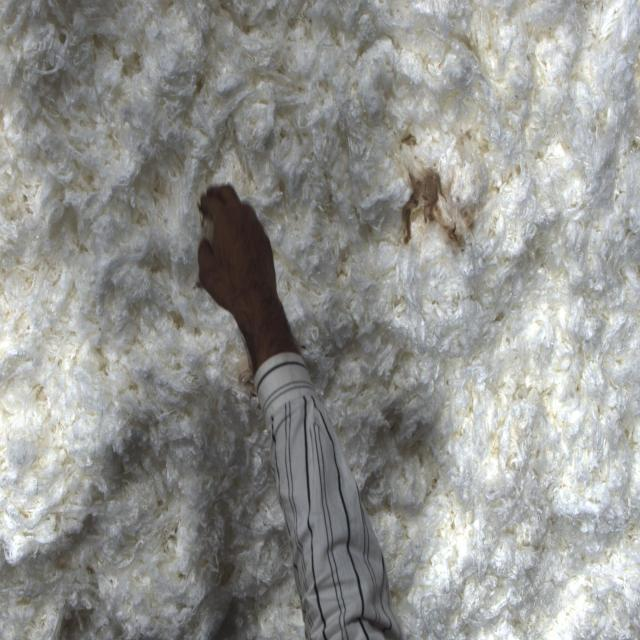dust: (165, 126, 332, 408), (292, 371, 360, 623), (392, 129, 462, 251)
